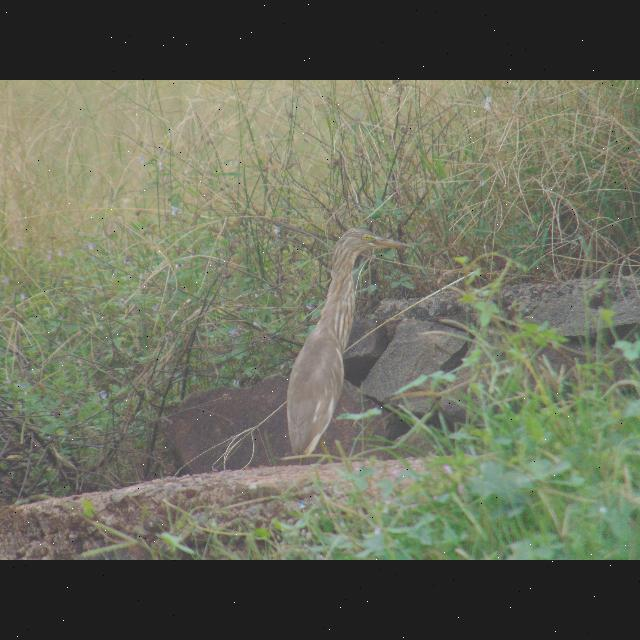heron: (270, 220, 428, 460)
